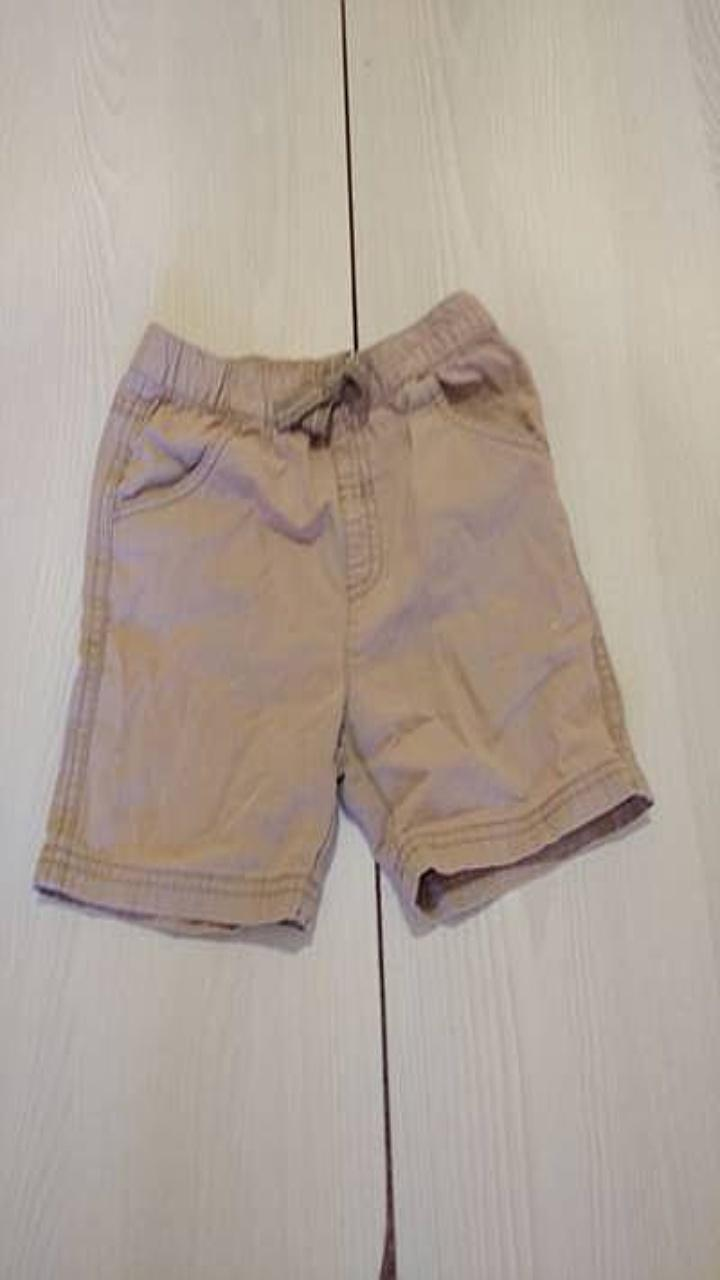Shorts: (34, 291, 652, 934)
